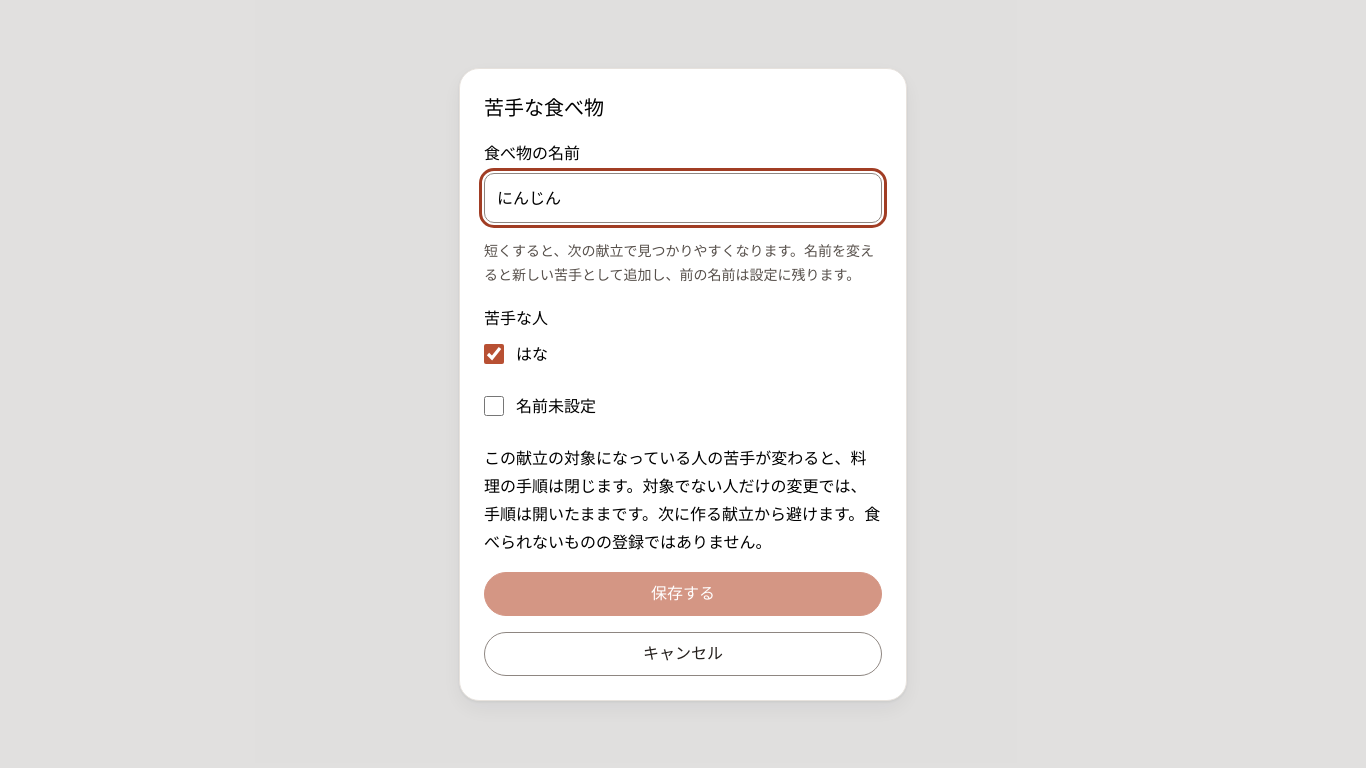
Test: keeps the dialog open and shows the stopped message
The width and height of the screenshot is (1366, 768).
Click the checkbox labelled "名前未設定": point(494, 406) [484,396,504,416]
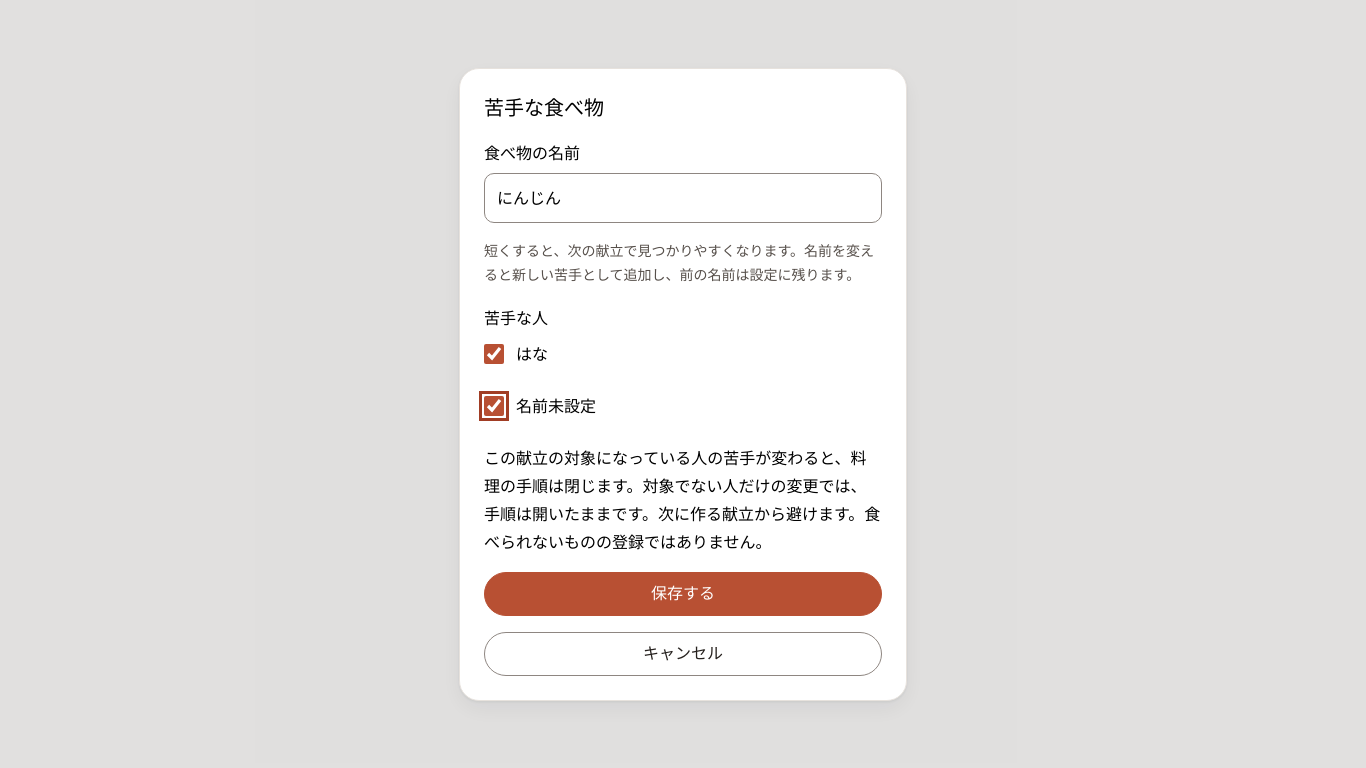
Click the button "保存する": point(683, 594) [484,572,882,616]
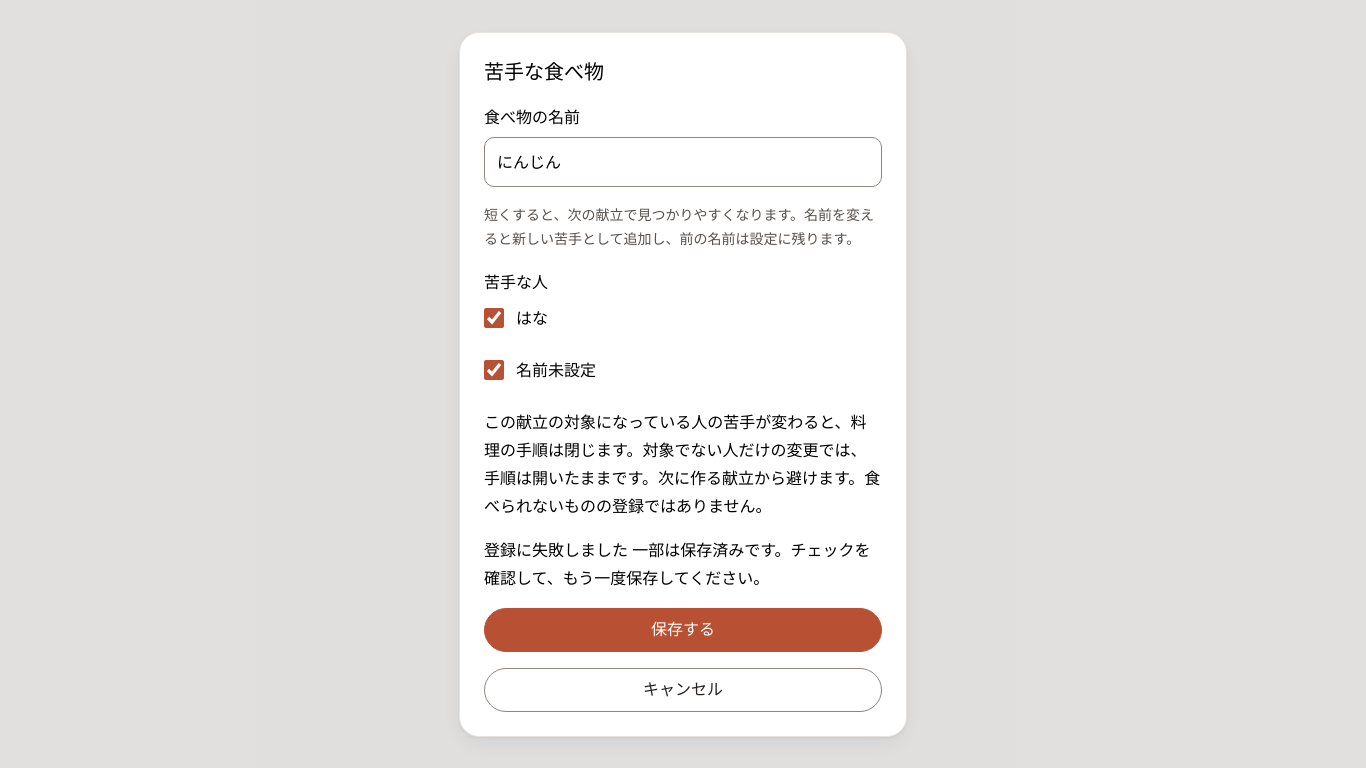
Expected: the message shows "一部は保存済みです", [484,538,871,588]
